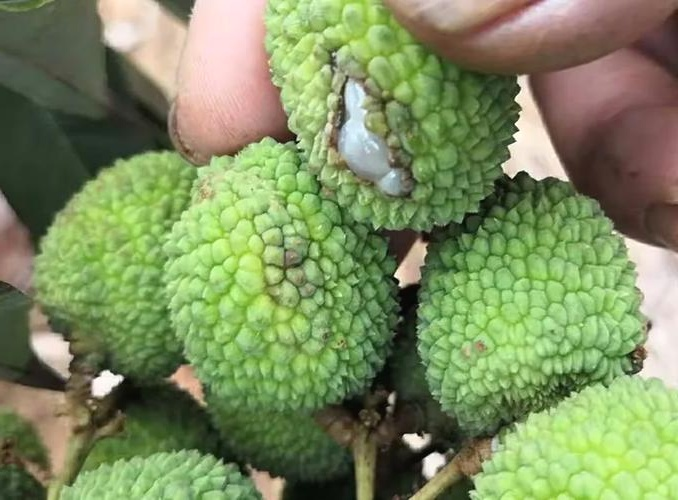Anthracnose: (310, 50, 404, 222)
